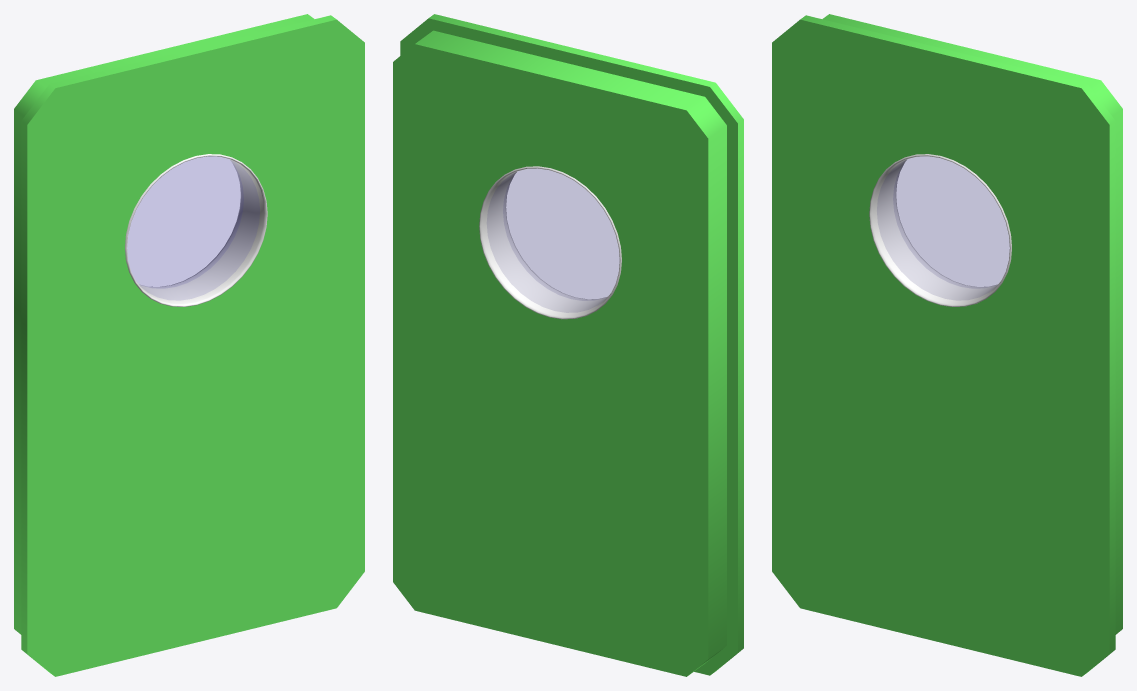
Rendered from door.fbx.
3 renders of one model, left to right at view 1: azimuth 30°, elevation 25°; view 2: azimuth 150°, elevation 25°; view 3: azimuth 330°, elevation 25°, orthographic.
Parts seen in each view (by area): view 1: doorWindow_1; view 2: doorWindow_1; view 3: doorWindow_1.
Boxes of the visible parts, x1,y1,x2,y2 form: doorWindow_1: (14, 14, 364, 676); doorWindow_1: (393, 14, 743, 676); doorWindow_1: (772, 14, 1122, 676).
Size of the model in its own units: 120 by 200 by 16.
